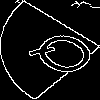Q: (25, 25, 100, 87)
